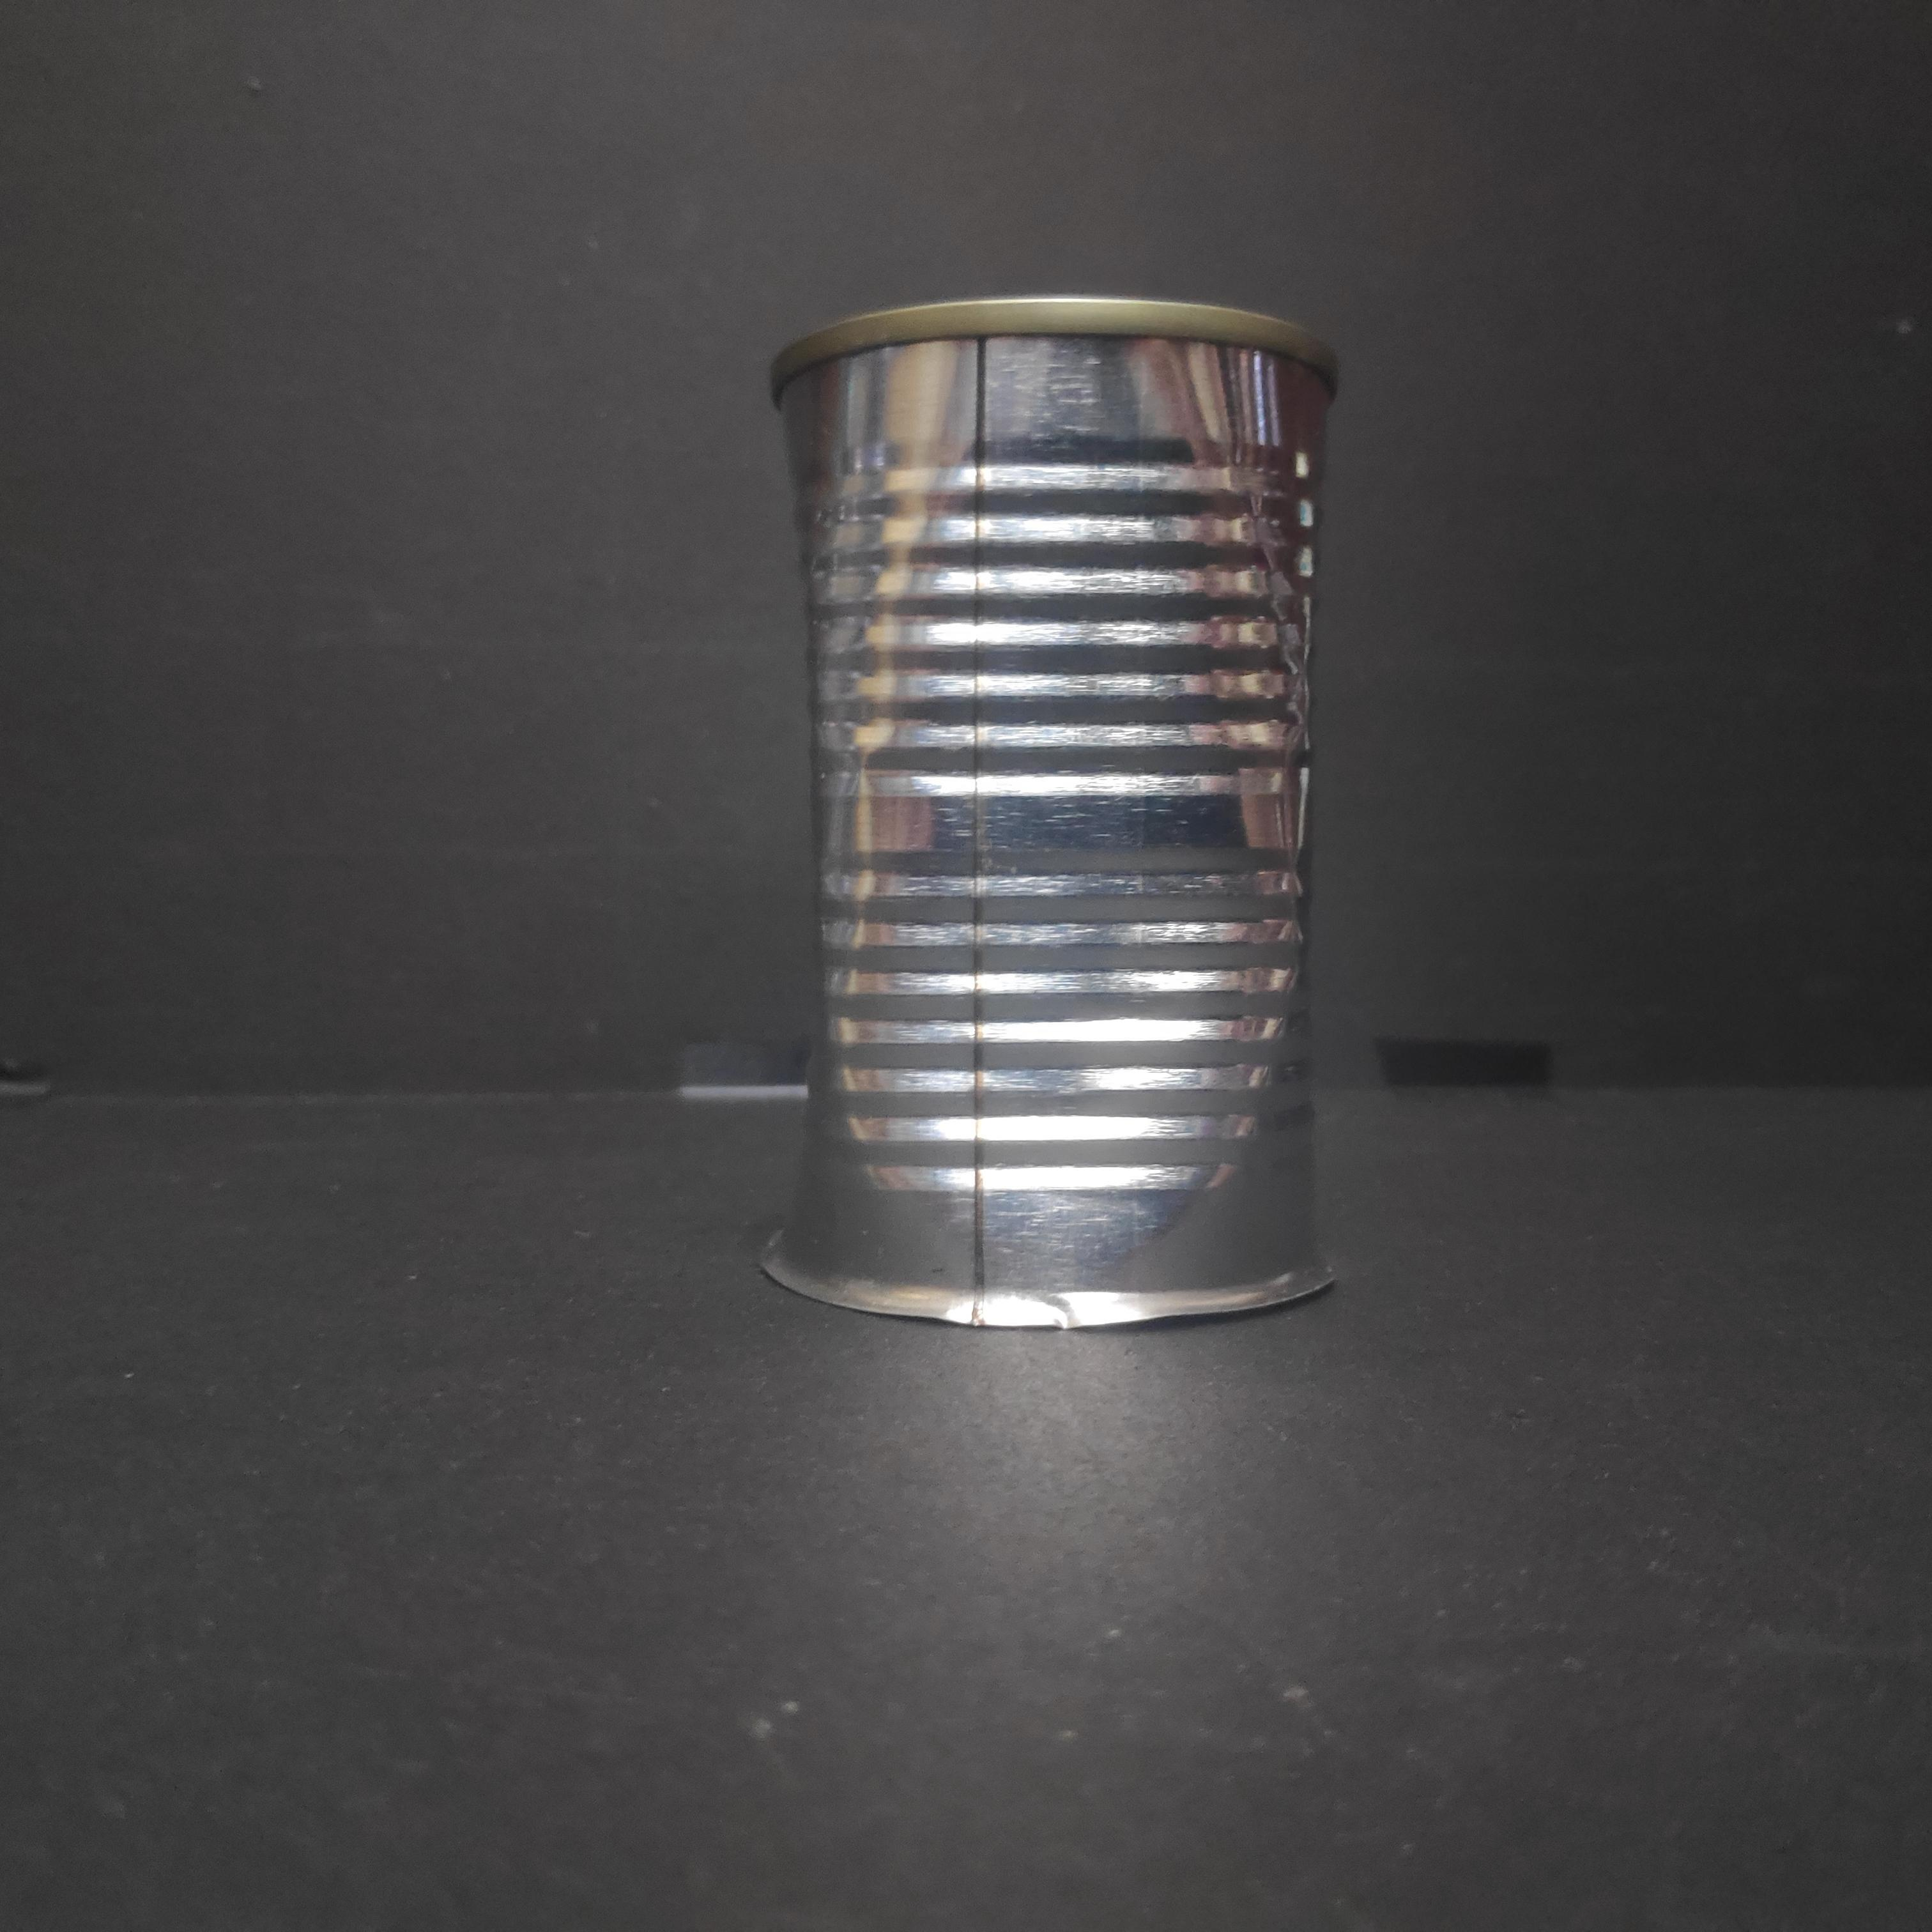Dented: (734, 278, 1368, 1384)
